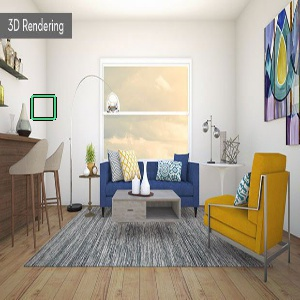square: (28, 92, 59, 123)
